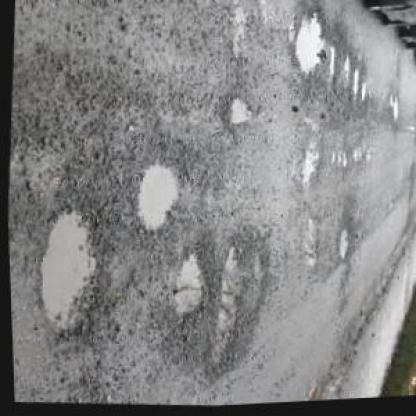pothole: (30, 206, 111, 346), (204, 233, 269, 377), (129, 160, 189, 242), (165, 250, 215, 334), (291, 11, 330, 82), (226, 97, 252, 132), (334, 232, 350, 268), (386, 98, 402, 127), (351, 71, 362, 101), (343, 60, 352, 92)
